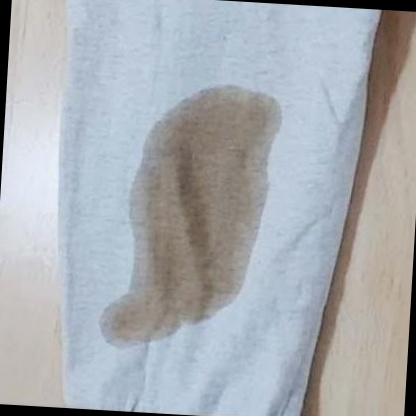coffee: (126, 94, 267, 311)
